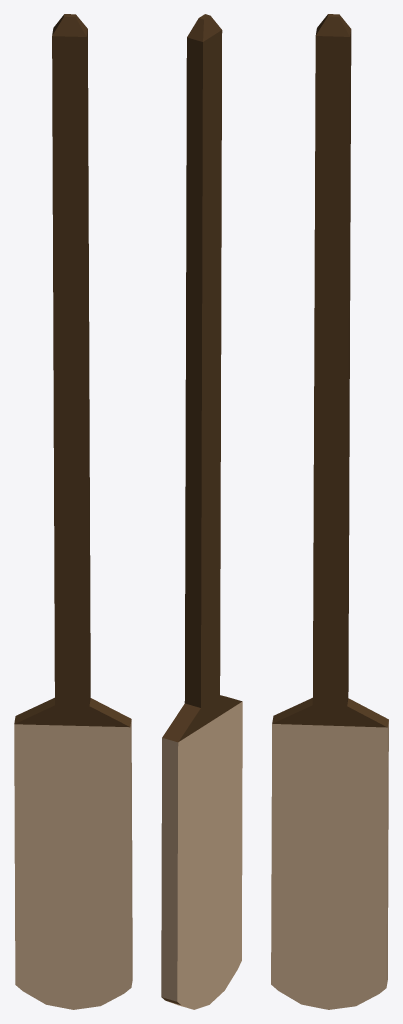
The model's file is paddle.fbx.
The picture shows the model from 3 angles, left to right: view 1: azimuth 90°, elevation 25°; view 2: azimuth 150°, elevation 25°; view 3: azimuth 270°, elevation 25°; orthographic projection.
Visible parts, largest first — view 1: Paddle; view 2: Paddle; view 3: Paddle.
Part boxes in pixels (left/top/right/bottom): Paddle: left=14, top=14, right=132, bottom=1009; Paddle: left=161, top=14, right=242, bottom=1009; Paddle: left=271, top=14, right=388, bottom=1009.
Bounding box in the file's own units: 3.44 × 125 × 13.48.
